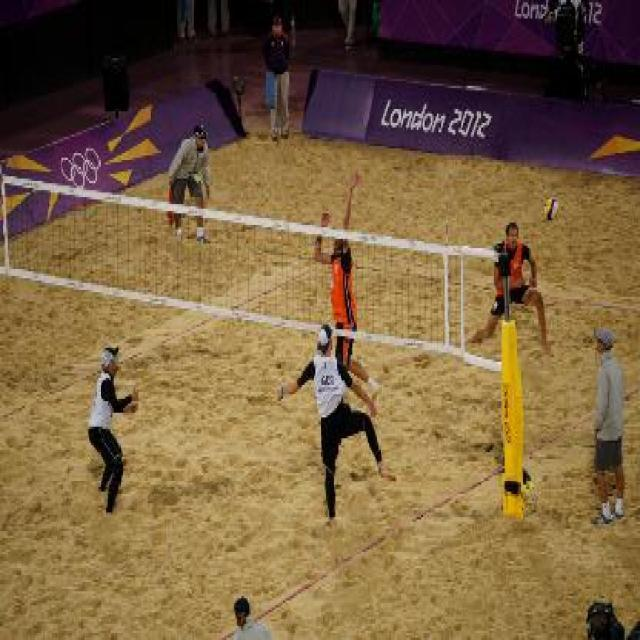volleyball: (542, 199, 558, 220)
